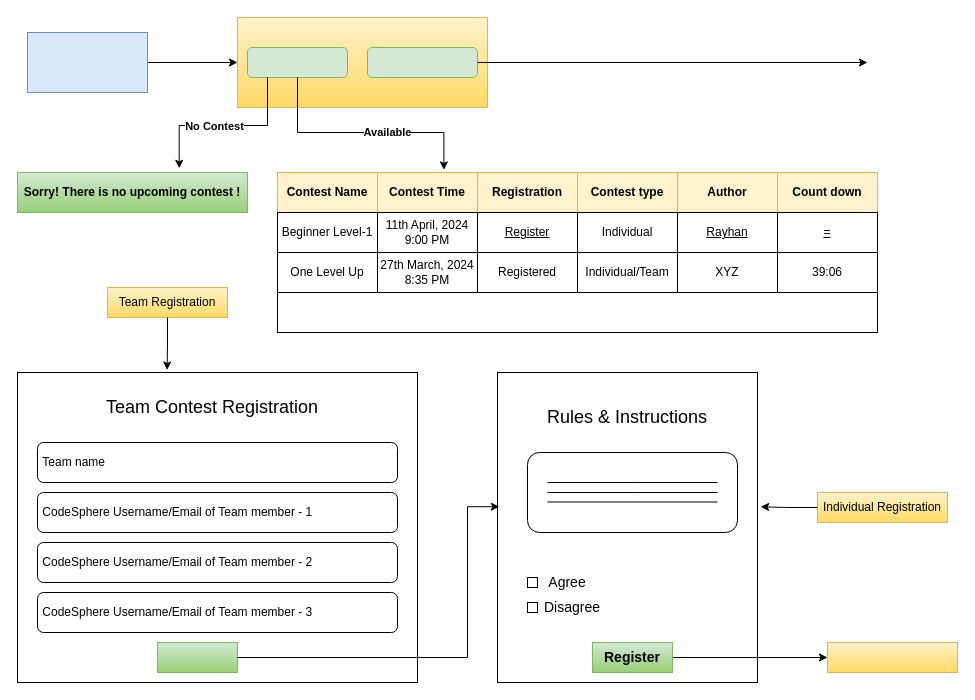
Some shapes in this 975 by 700 pixel diagram are drawn without their labels. The shapes that lost their labels are listed below. From the top down, each one's centre as x and y in pixels, then its label:
the point at 87,62: Contest
the point at 297,62: Participate
the point at 422,62: Host
the point at 197,657: Next
the point at 892,657: Count down Start
